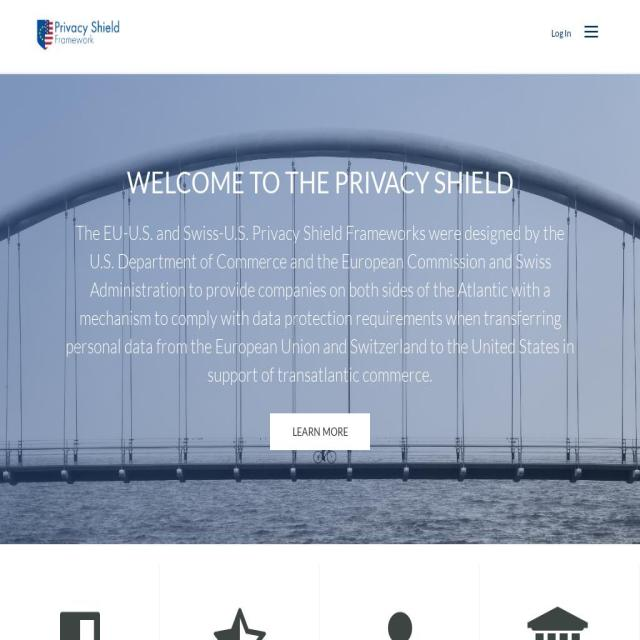button: (26, 18, 130, 54), (270, 413, 370, 450), (544, 23, 578, 44)
heading: (66, 162, 574, 202)
image: (36, 18, 120, 60)
link: (527, 606, 591, 640), (213, 606, 266, 640), (59, 606, 99, 640), (379, 606, 419, 640)
text: (66, 218, 574, 388)
